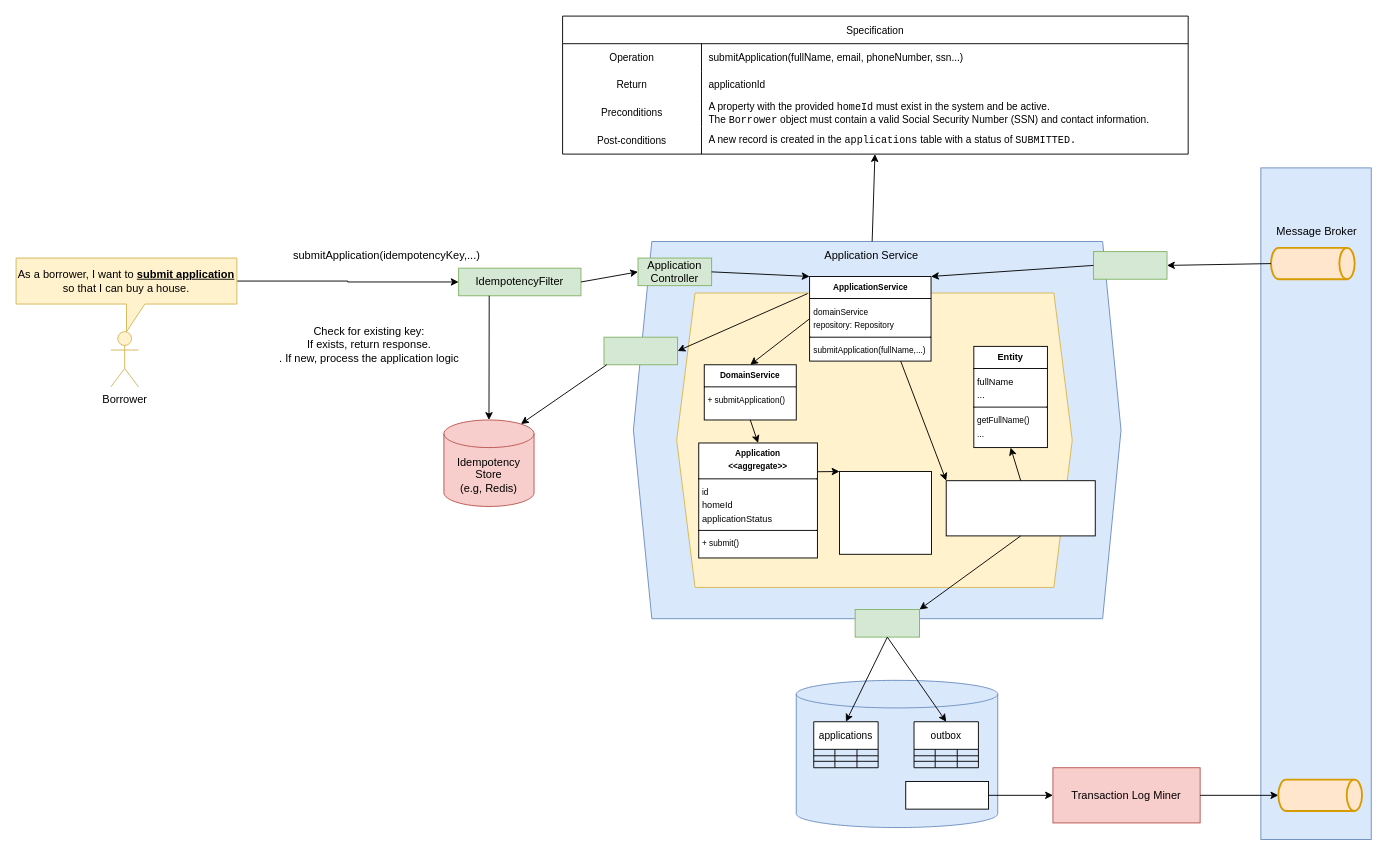
Image size: 1387x856. Some labels were removed from this diagram. Each missing label, with the centre of its shape:
"Application Consumer" goes at point (1129, 265).
"ApplicationStatus <<value object>> DRAFT, SUBMITTED, ..." goes at point (885, 512).
"CacheAdapter" goes at point (640, 350).
"Persistence Adapter" goes at point (887, 623).
"Repository save(Application)" goes at point (1020, 508).
"Transaction Log" goes at point (947, 795).
